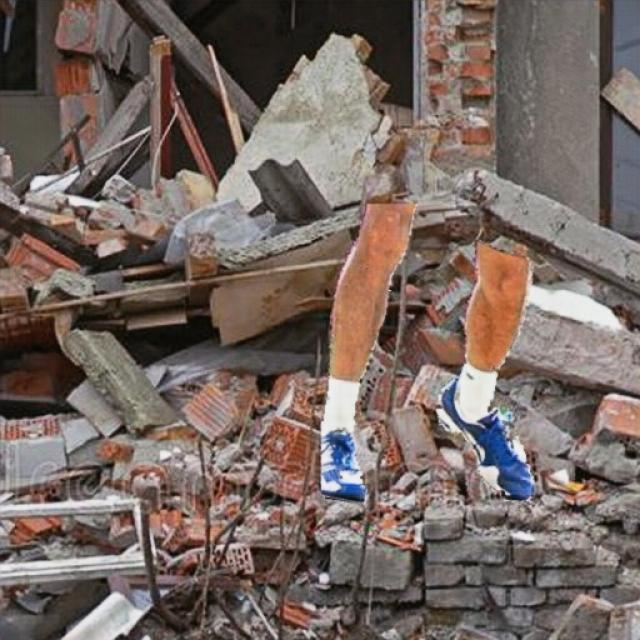Person in Rubble: (322, 204, 532, 504)
